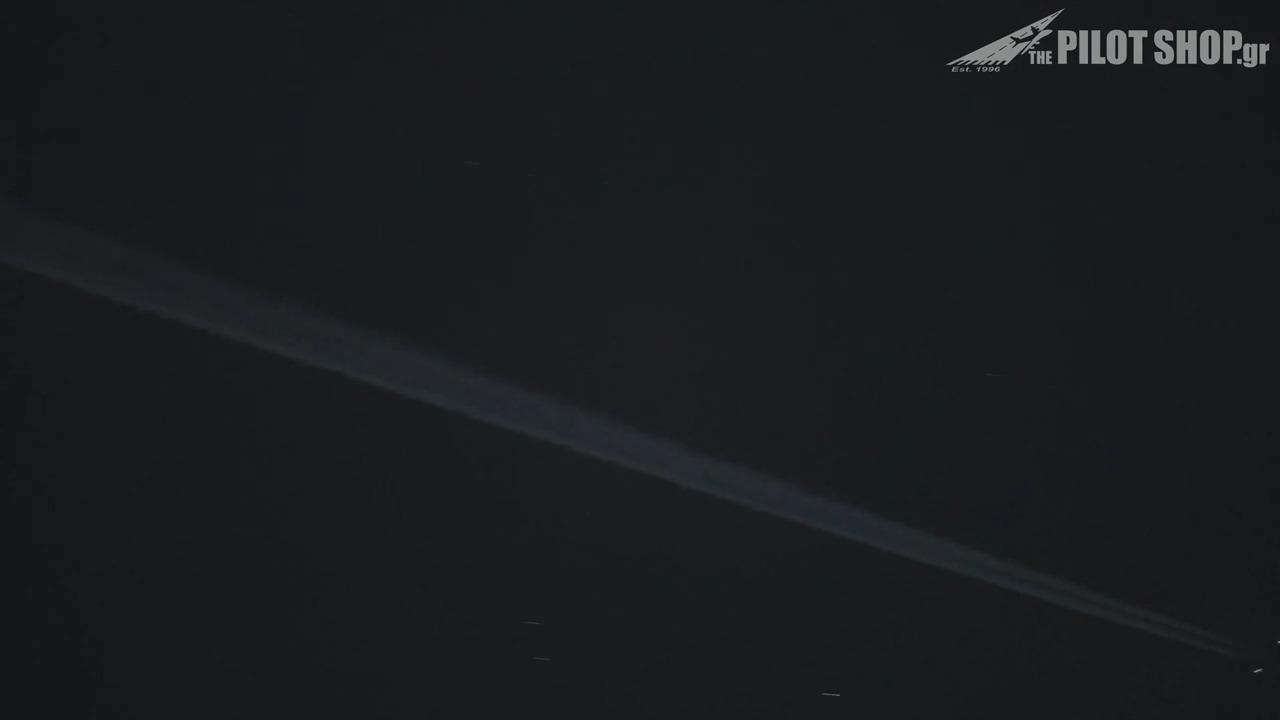Plane: (1167, 626, 1279, 685)
